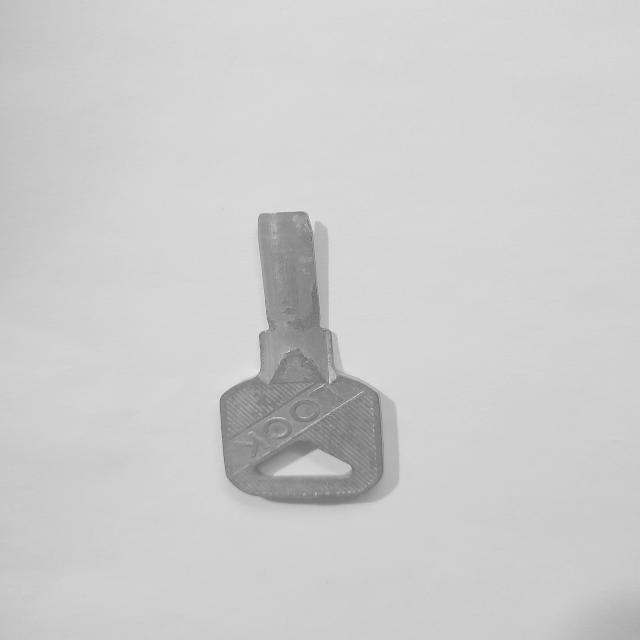KEY: (220, 211, 383, 499)
